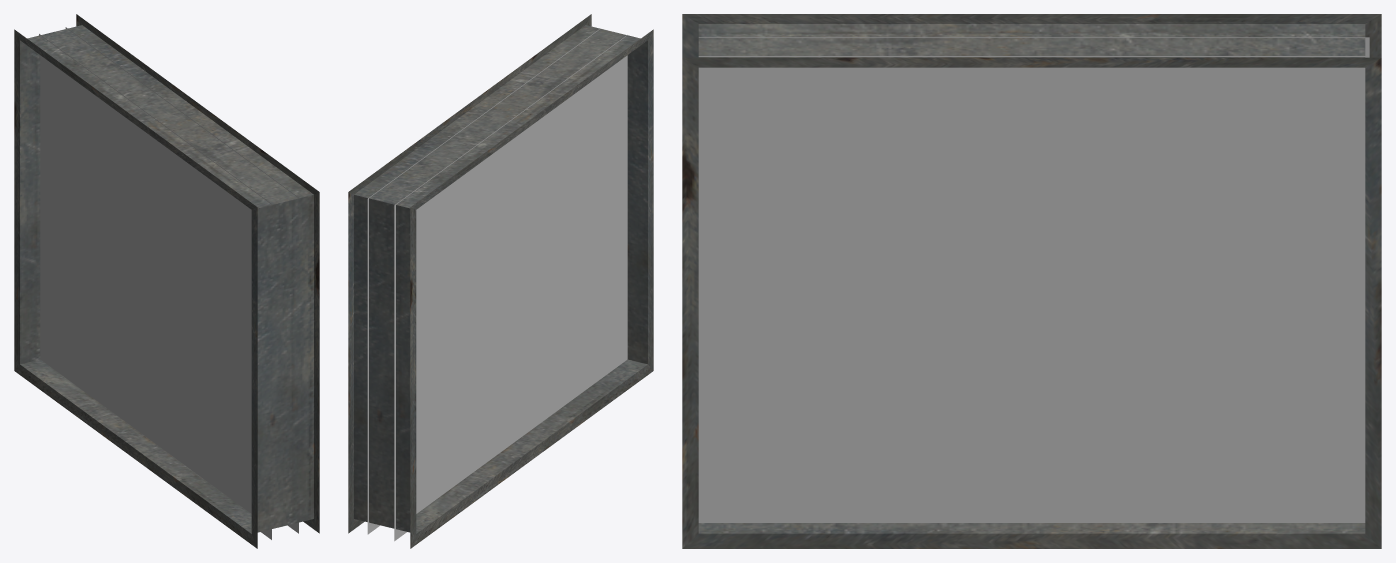
The model's file is WindowFrameClosedA.FBX.
3 renders of one model, left to right at view 1: azimuth 30°, elevation 25°; view 2: azimuth 150°, elevation 25°; view 3: azimuth 270°, elevation 25°, orthographic. The views are drawn at different scales.
Visible parts, largest first — view 1: WindowFrameClosedA; view 2: WindowFrameClosedA; view 3: WindowFrameClosedA.
Boxes of the visible parts, x1=… form: WindowFrameClosedA: x1=14, y1=14, x2=319, y2=548; WindowFrameClosedA: x1=348, y1=14, x2=653, y2=548; WindowFrameClosedA: x1=682, y1=14, x2=1381, y2=548.
Size of the model in its own units: 30.45 by 160 by 206.
